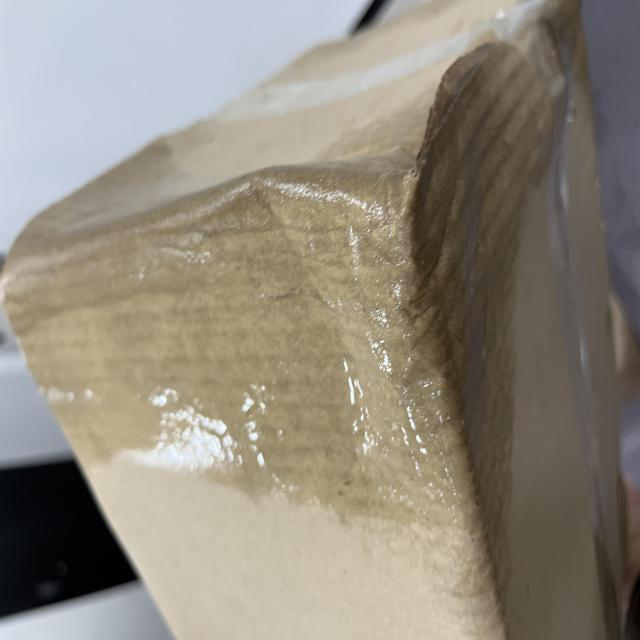wet: (89, 94, 445, 640)
